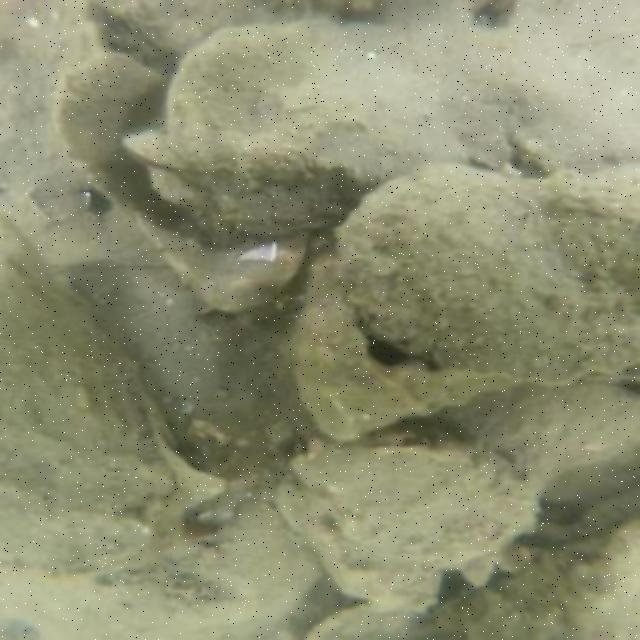Oyster-Closed: (164, 20, 484, 236), (49, 50, 311, 312), (340, 164, 630, 384), (2, 230, 173, 574), (283, 437, 546, 603), (70, 502, 314, 631)
